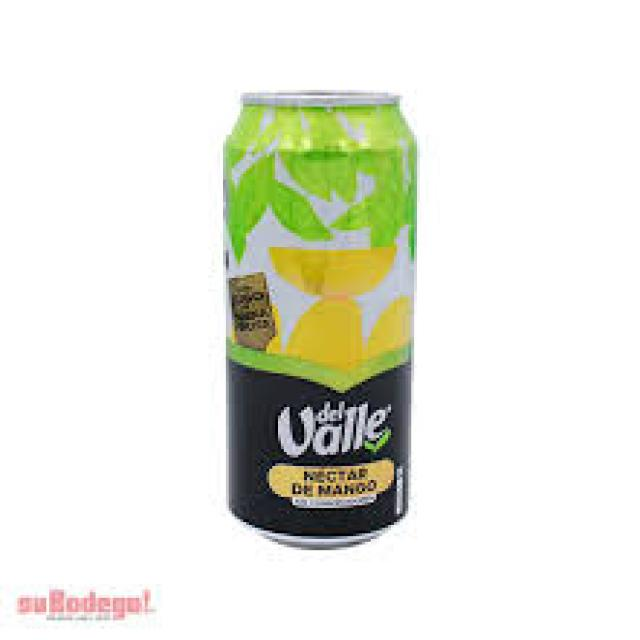Lata: (216, 81, 420, 555)
